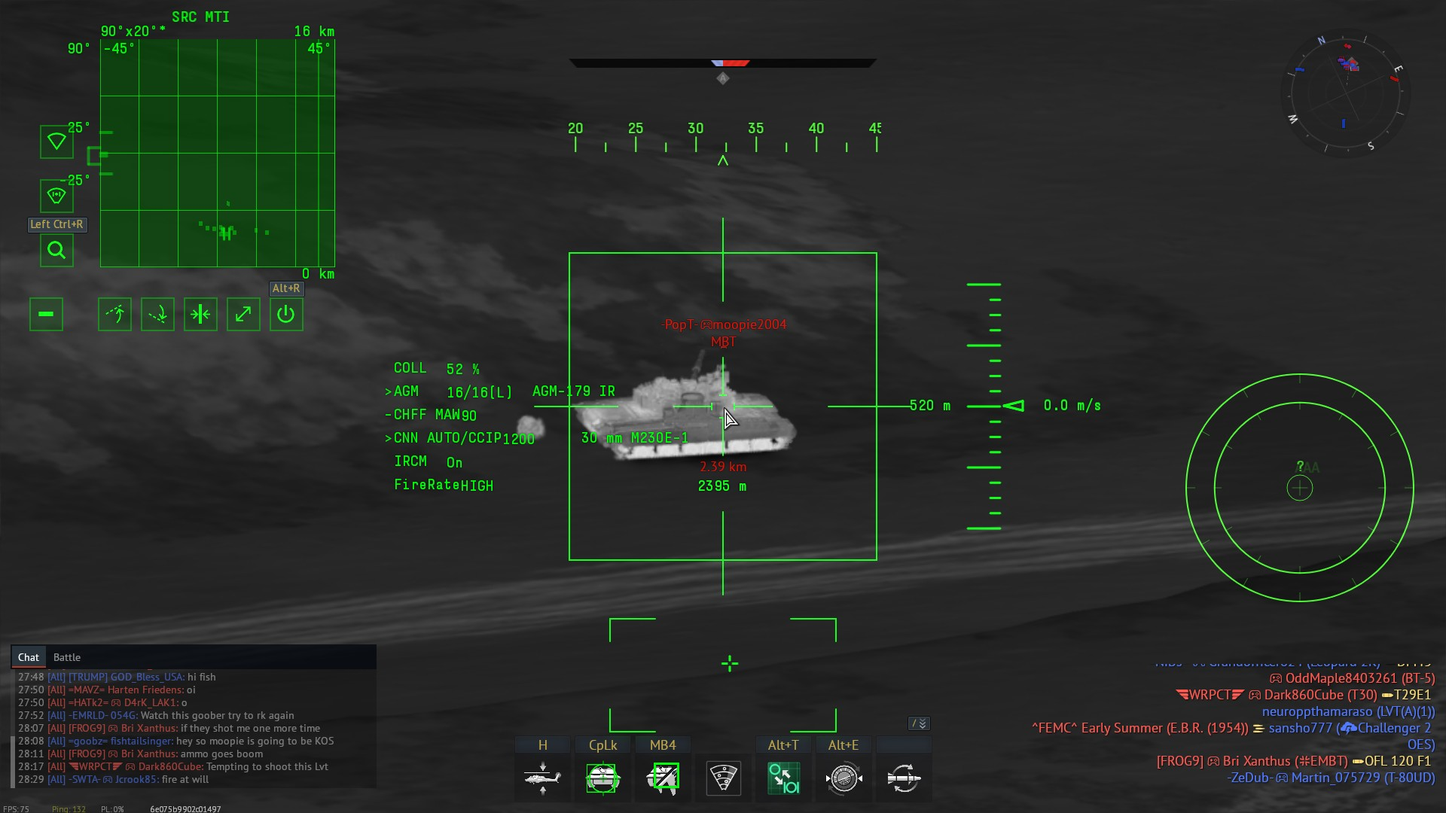t-80u: (575, 351, 798, 462)
